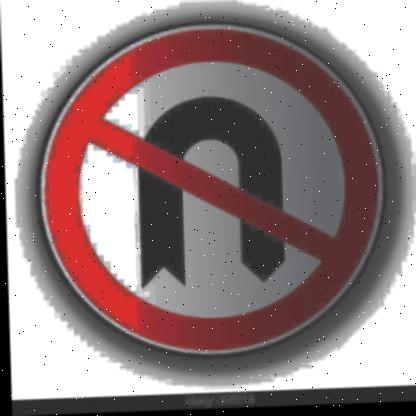No U-turn: (29, 18, 400, 361)
